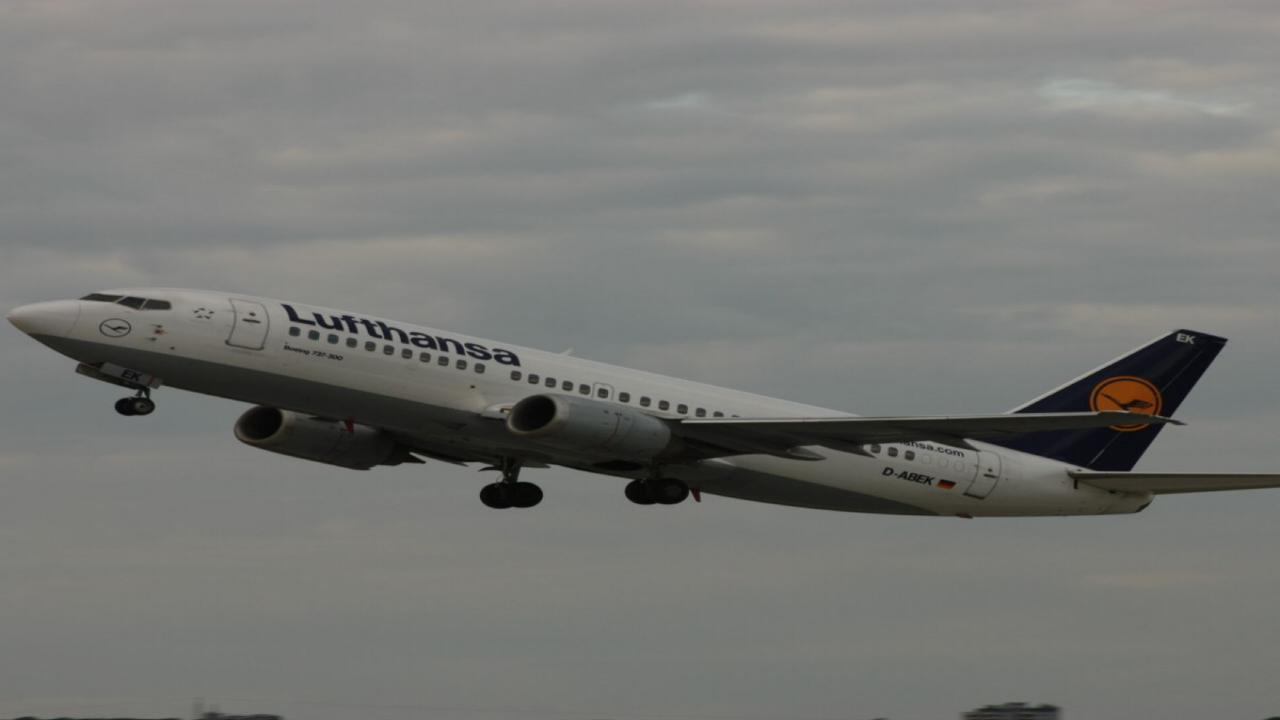Airplane: (0, 246, 1280, 546)
